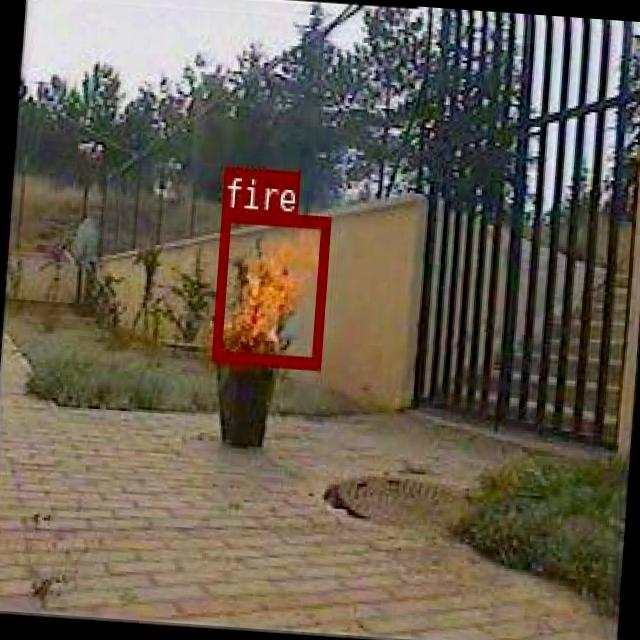fire: (210, 208, 327, 366)
